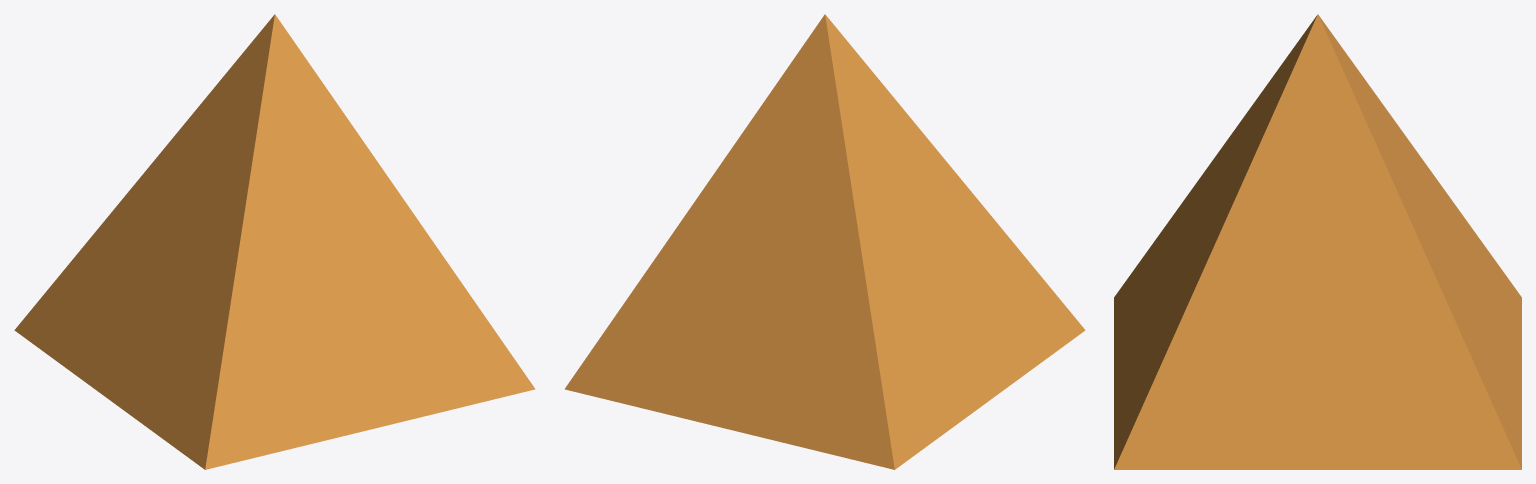
File: pyramide__edge.glb
3 renders of one model, left to right at view 1: azimuth 30°, elevation 25°; view 2: azimuth 150°, elevation 25°; view 3: azimuth 270°, elevation 25°, orthographic. The views are drawn at different scales.
Visible parts, largest first — view 1: pyramide; view 2: pyramide; view 3: pyramide.
Part boxes in pixels (x1=…): pyramide: x1=14, y1=14, x2=535, y2=469; pyramide: x1=565, y1=14, x2=1085, y2=469; pyramide: x1=1114, y1=14, x2=1521, y2=469.
Bounding box in the file's own units: 2 × 2 × 2.
